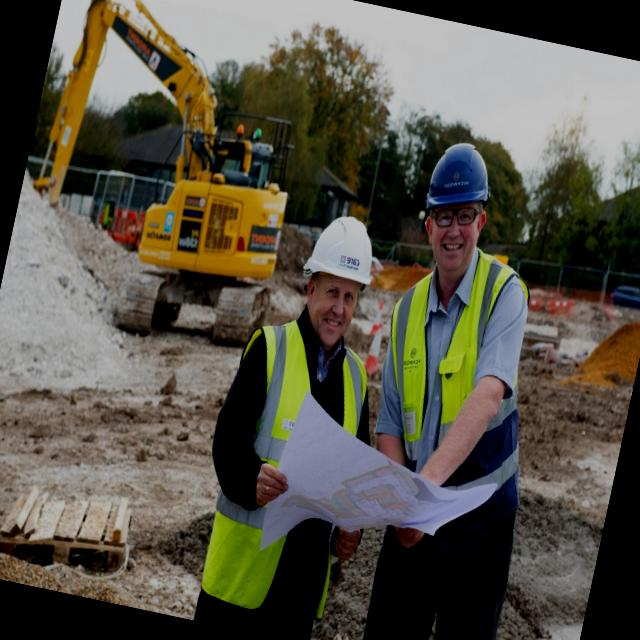helmet: (295, 204, 386, 303), (417, 134, 508, 228)
vest: (188, 317, 371, 617), (369, 242, 502, 482)
